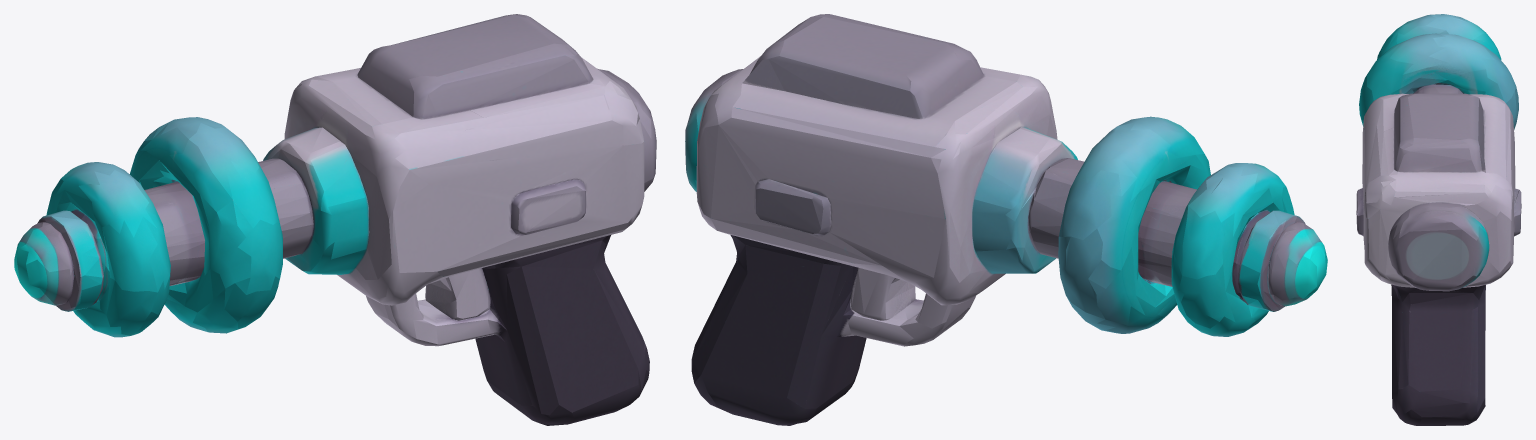
File: volta_waffe_reduziert.glb
The picture shows the model from 3 angles, left to right: view 1: azimuth 30°, elevation 25°; view 2: azimuth 150°, elevation 25°; view 3: azimuth 270°, elevation 25°; orthographic projection. The views are drawn at different scales.
Visible parts, largest first — view 1: output_unwrapped; view 2: output_unwrapped; view 3: output_unwrapped.
Part boxes in pixels (left/top/right/bottom): output_unwrapped: left=14, top=14, right=656, bottom=425; output_unwrapped: left=685, top=14, right=1327, bottom=425; output_unwrapped: left=1356, top=14, right=1521, bottom=425.
Bounding box in the file's own units: 1.9 × 1.13 × 0.6364.
Materials: 1 (1 with a texture image).
